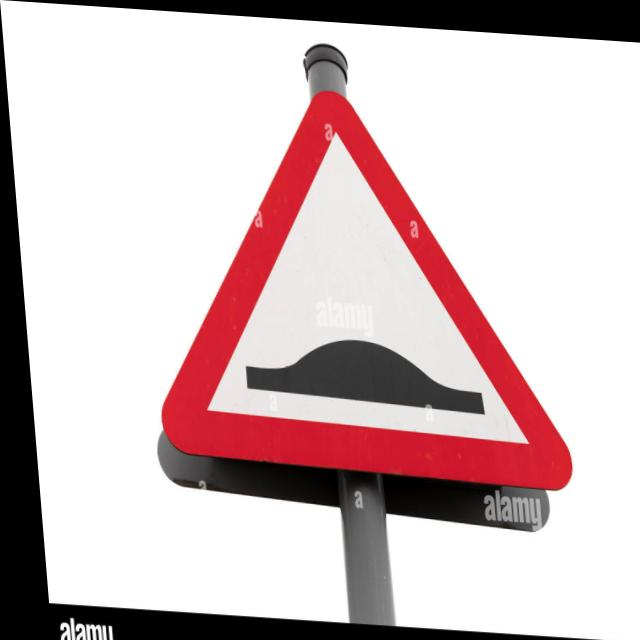BUMPS: (127, 78, 568, 532)
